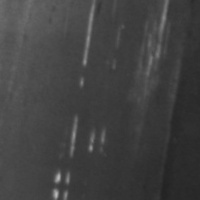scratches: (50, 109, 111, 190), (134, 0, 177, 76), (75, 0, 105, 89)
